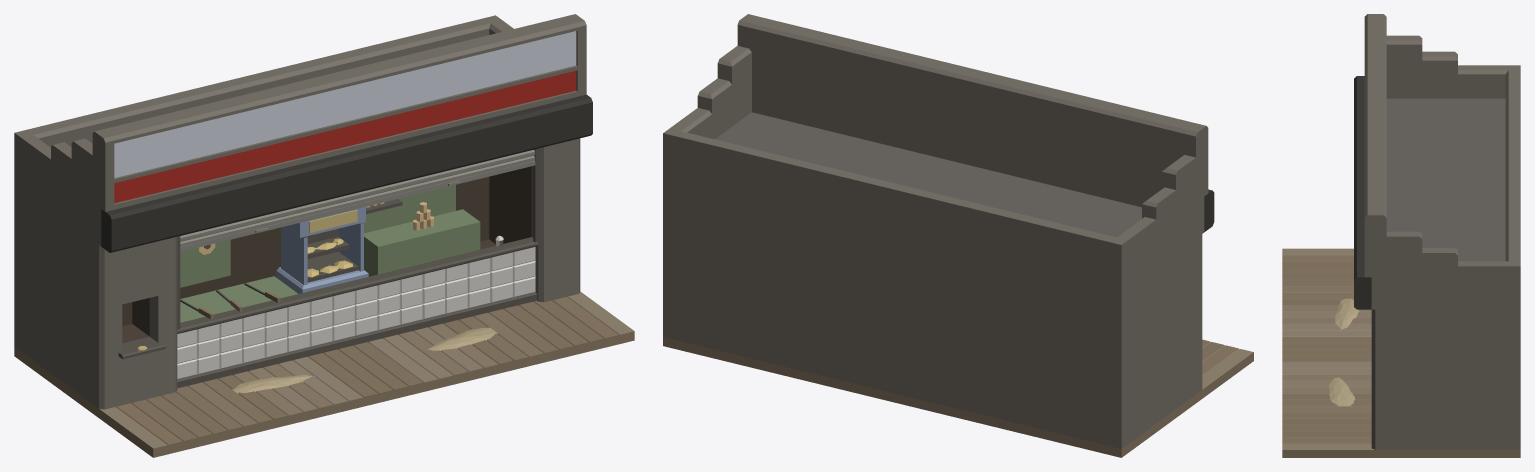
Rendered from amusement-arcade-front-e1caee.glb.
3 renders of one model, left to right at view 1: azimuth 30°, elevation 25°; view 2: azimuth 150°, elevation 25°; view 3: azimuth 270°, elevation 25°, orthographic. The views are drawn at different scales.
Visible parts, largest first — view 1: arcade-shell, game-right-mesh, shutter-mesh, coin-pusher-mesh, game-left-mesh; view 2: arcade-shell; view 3: arcade-shell.
Boxes of the visible parts, x1=… form: arcade-shell: x1=14, y1=14, x2=634, y2=457; game-right-mesh: x1=360, y1=185, x2=503, y2=276; shutter-mesh: x1=180, y1=149, x2=535, y2=251; coin-pusher-mesh: x1=276, y1=206, x2=368, y2=293; game-left-mesh: x1=180, y1=240, x2=297, y2=322; arcade-shell: x1=663, y1=14, x2=1253, y2=457; arcade-shell: x1=1282, y1=14, x2=1520, y2=457.
Bounding box in the file's own units: 8 × 4.5 × 4.
